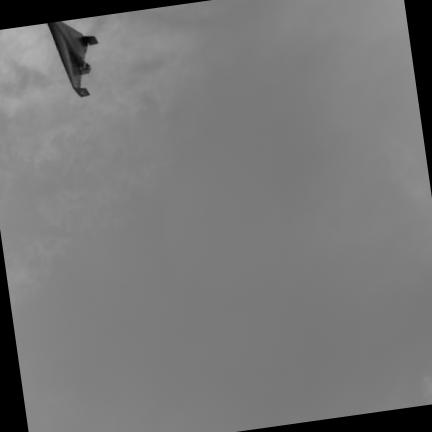Shahed: (46, 20, 97, 95)
